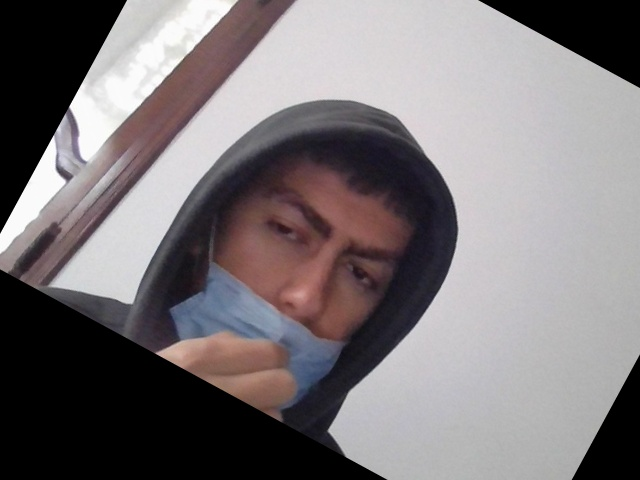mask_weared_incorrect: (199, 142, 426, 422)
